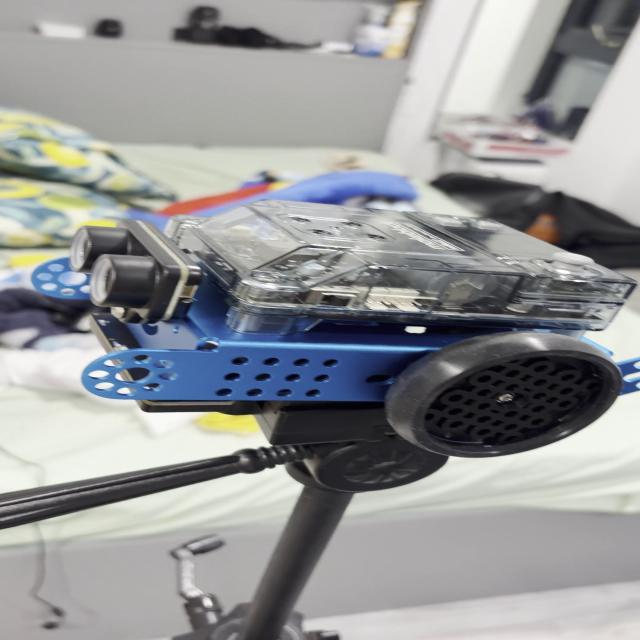mbot-detection: (0, 195, 640, 466)
